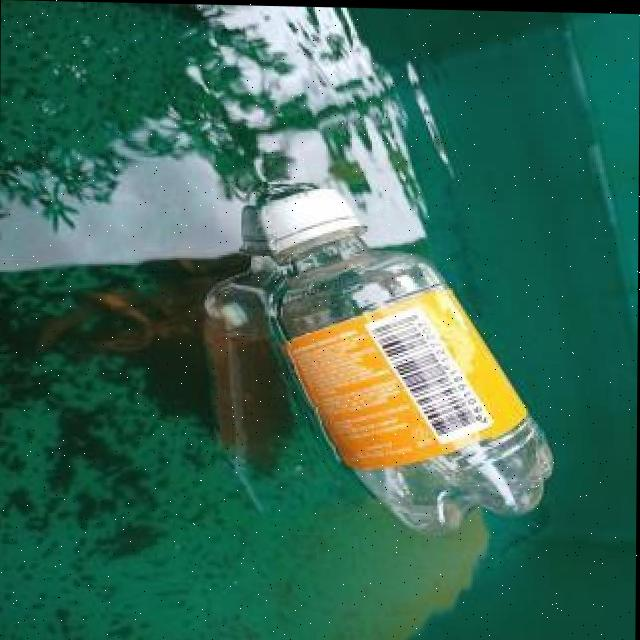bottle: (253, 184, 561, 540)
